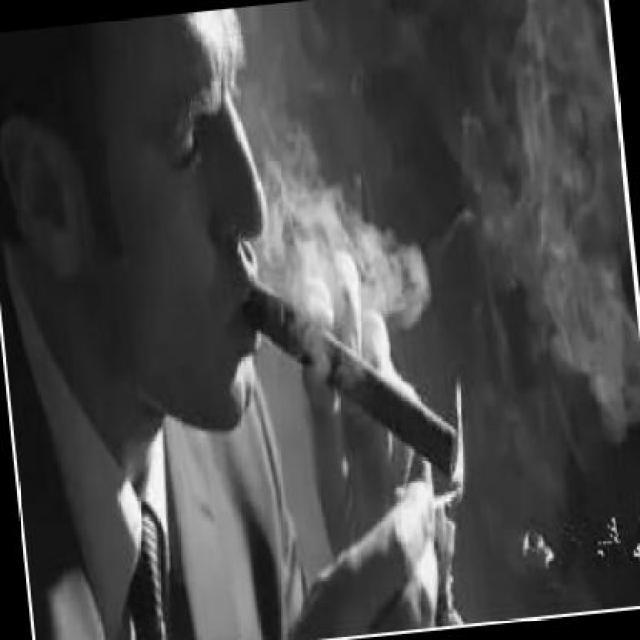smoke: (246, 258, 464, 500)
